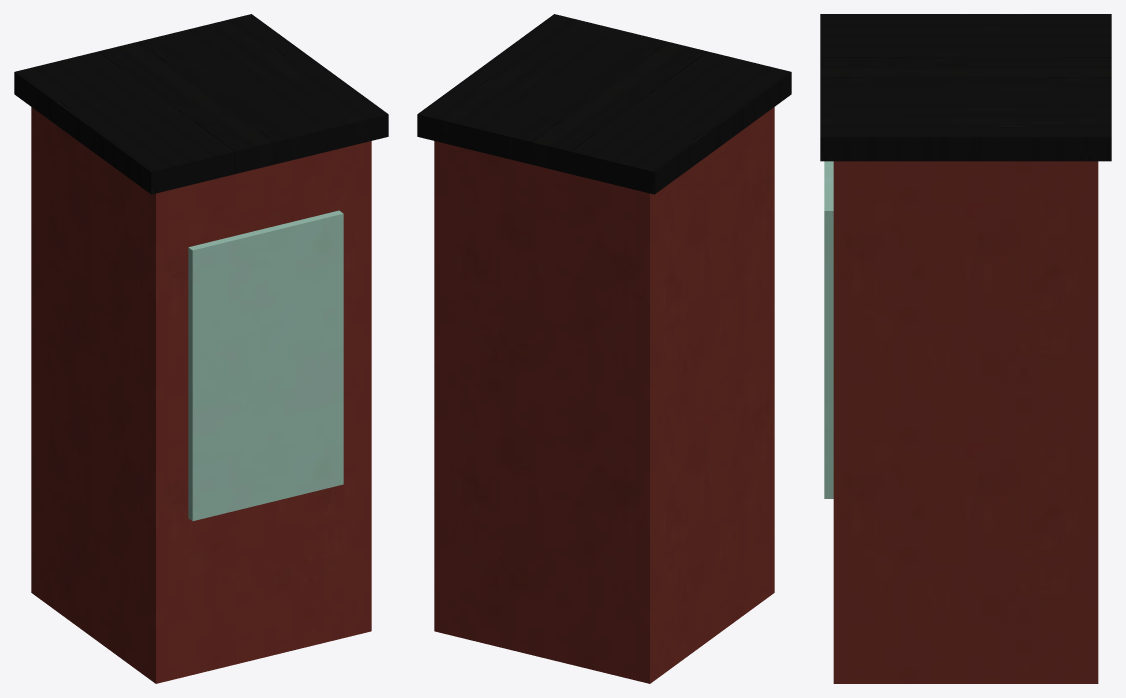
Rendered from phone_booth_01.glb.
3 renders of one model, left to right at view 1: azimuth 30°, elevation 25°; view 2: azimuth 150°, elevation 25°; view 3: azimuth 270°, elevation 25°, orthographic. The views are drawn at different scales.
Parts seen in each view (by area): view 1: phone_booth_01; view 2: phone_booth_01; view 3: phone_booth_01.
Boxes of the visible parts, bbox=[...] form: phone_booth_01: bbox=[14, 14, 388, 683]; phone_booth_01: bbox=[417, 14, 791, 683]; phone_booth_01: bbox=[820, 14, 1111, 683].
Size of the model in its own units: 1.1 by 2.3 by 1.1.
Materials: 3 (3 with a texture image).
